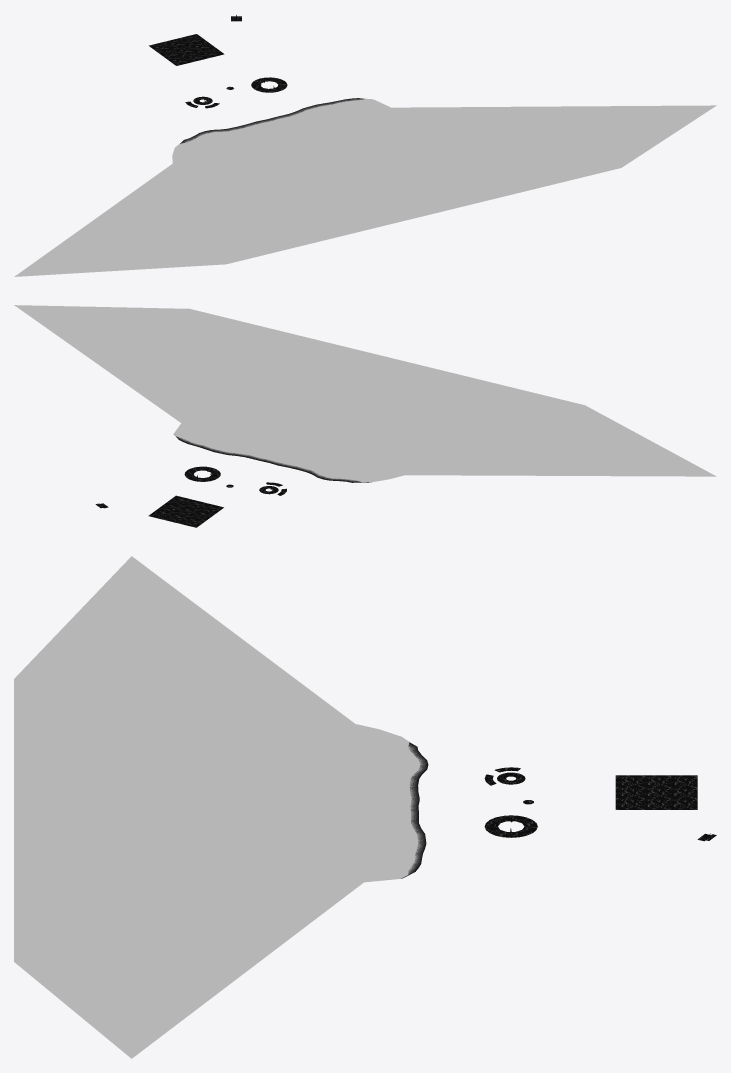
The model's file is sea.dae.
3 views of the same model, one above another, from view 1: azimuth 30°, elevation 25°; view 2: azimuth 150°, elevation 25°; view 3: azimuth 270°, elevation 25° (orthographic). The views are drawn at different scales.
Visible parts, largest first — view 1: m4, m3, m0, m2; view 2: m4, m3, m0, m2; view 3: m4, m3, m0, m2.
Boxes of the visible parts, x1=… form: m4: x1=14, y1=105, x2=716, y2=276; m3: x1=172, y1=98, x2=390, y2=162; m0: x1=149, y1=16, x2=287, y2=108; m2: x1=180, y1=98, x2=364, y2=143; m4: x1=14, y1=305, x2=716, y2=482; m3: x1=174, y1=423, x2=403, y2=482; m0: x1=95, y1=466, x2=286, y2=527; m2: x1=175, y1=435, x2=371, y2=482; m4: x1=14, y1=556, x2=401, y2=1058; m3: x1=356, y1=724, x2=419, y2=881; m0: x1=484, y1=767, x2=716, y2=841; m2: x1=401, y1=742, x2=428, y2=878.
Bounding box in the file's own units: 581 × 343 × 12.48.
